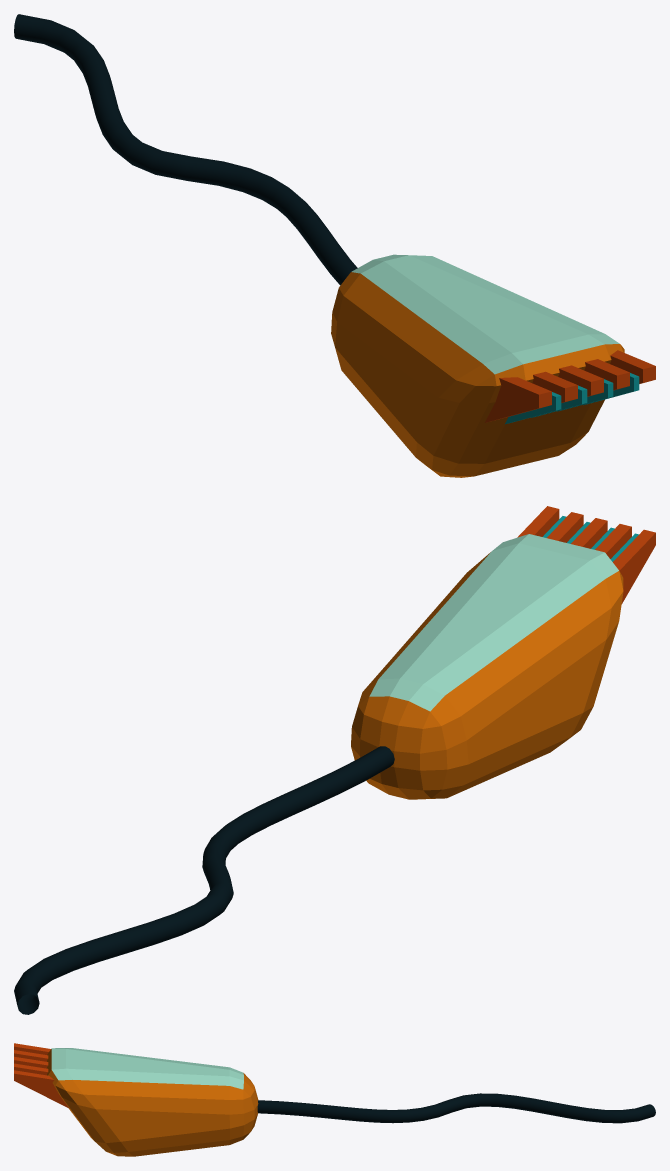
Rendered from RAZOR.fbx.
3 renders of one model, top to bottom at view 1: azimuth 30°, elevation 25°; view 2: azimuth 150°, elevation 25°; view 3: azimuth 270°, elevation 25°, orthographic. The views are drawn at different scales.
Parts seen in each view (by area): view 1: Cube.003, Cube.005, BezierCurve, Cube.004, Cube.006; view 2: Cube.003, Cube.005, BezierCurve, Cube.004; view 3: Cube.003, BezierCurve, Cube.005, Cube.004.
Part boxes in pixels (x1,y1,x2,y2): Cube.003: (331, 272, 624, 477); Cube.005: (351, 254, 619, 374); BezierCurve: (14, 14, 357, 285); Cube.004: (485, 350, 655, 422); Cube.006: (505, 373, 639, 424); Cube.003: (351, 552, 623, 799); Cube.005: (369, 534, 618, 711); BezierCurve: (14, 746, 394, 1014); Cube.004: (517, 506, 655, 603); Cube.003: (47, 1049, 258, 1156); BezierCurve: (257, 1093, 655, 1123); Cube.005: (51, 1048, 243, 1089); Cube.004: (14, 1043, 69, 1108).
Size of the model in its own units: 93.34 by 86.59 by 582.
